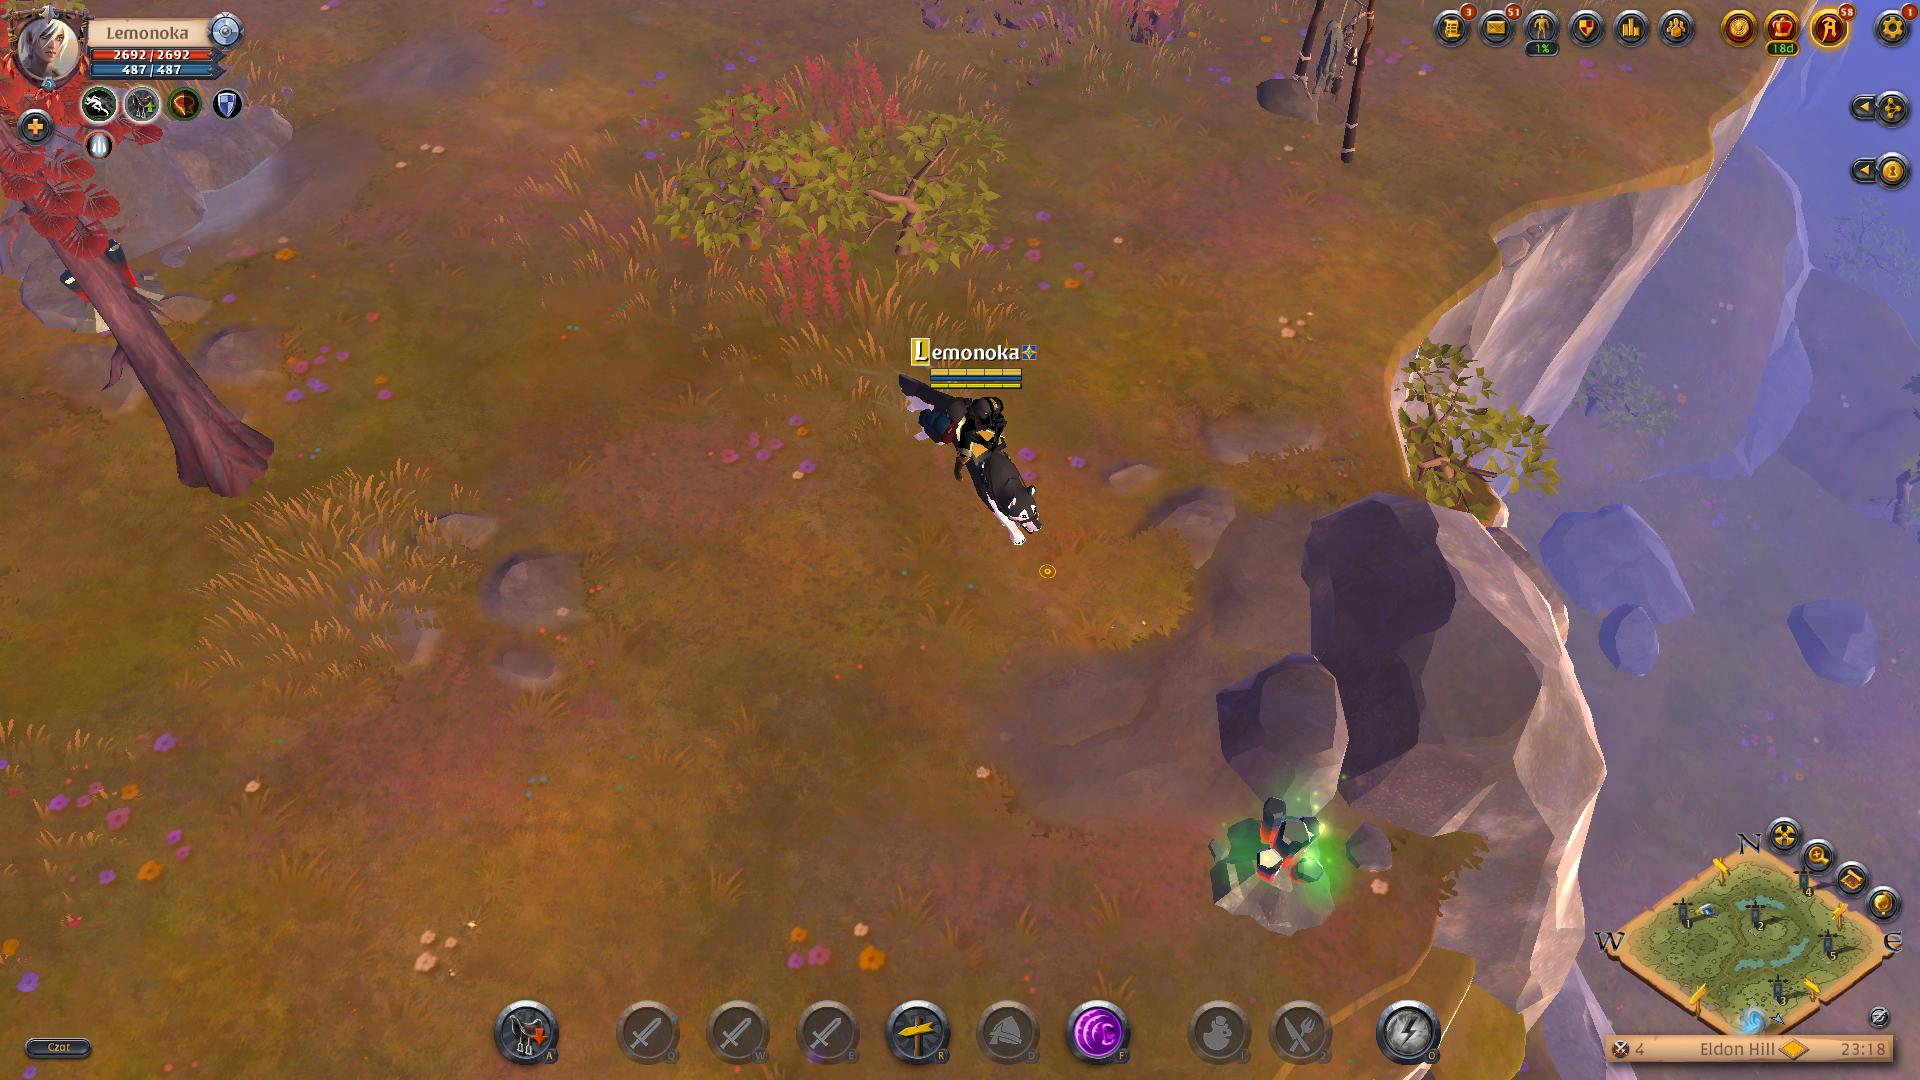ore tier 5: (1208, 795, 1346, 943)
